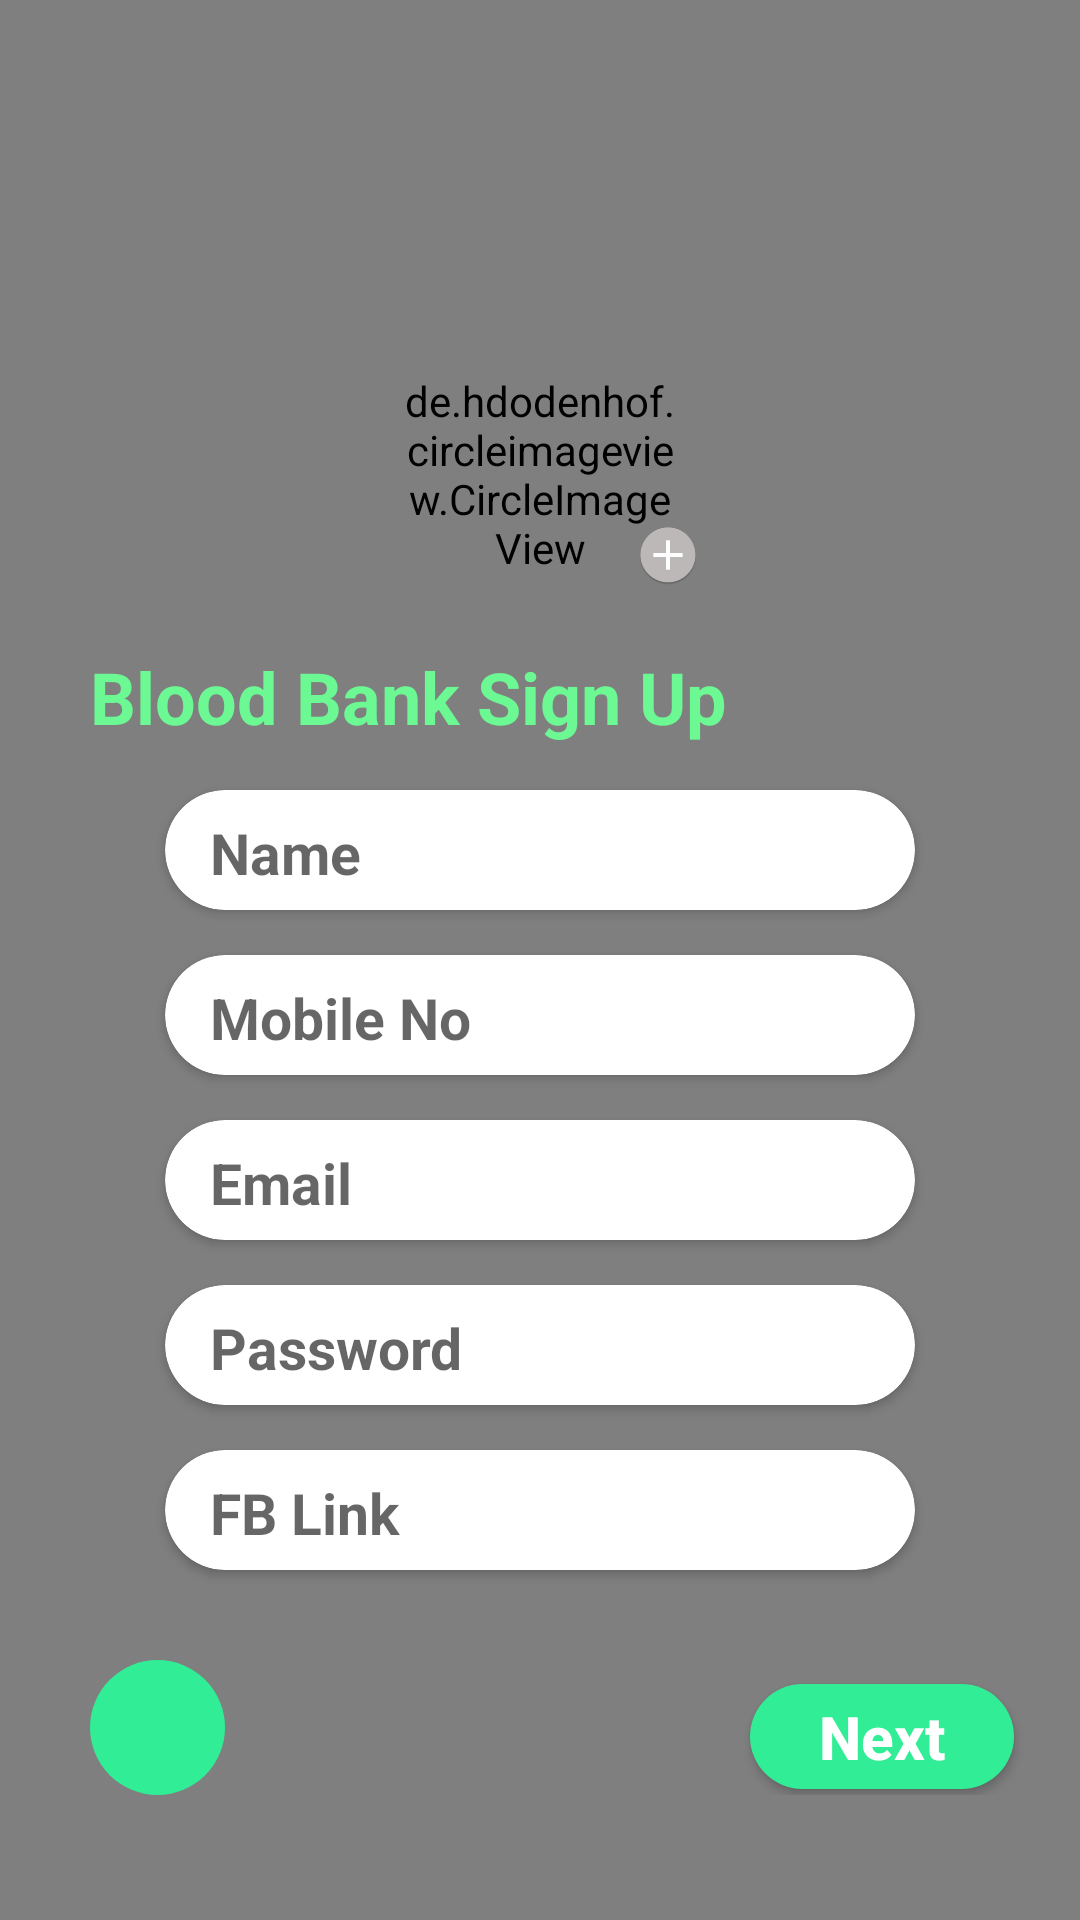

Screen size 1080 × 1920. Icon name, then its box in pixels as bbox=[x1, y1, x2, y2]:
add: bbox=[640, 527, 695, 582]
